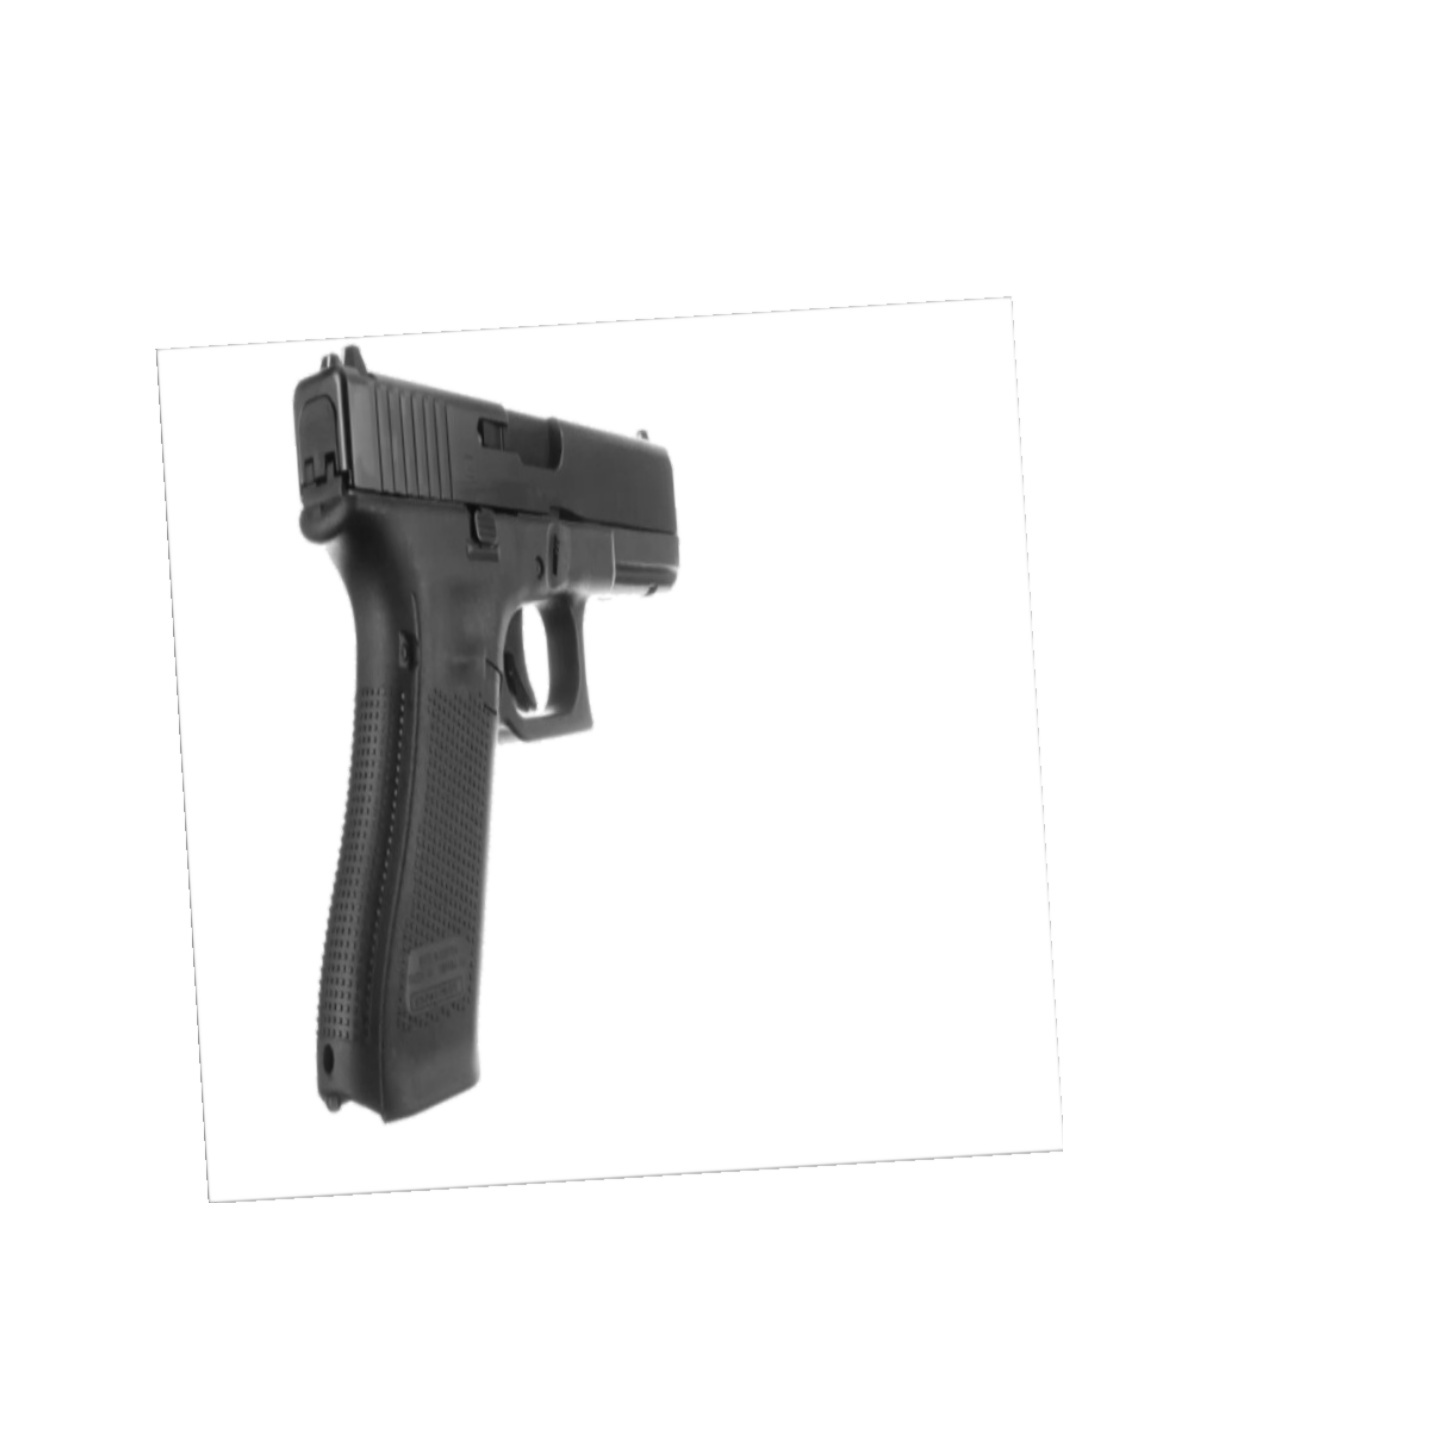gun: (283, 328, 690, 1136)
